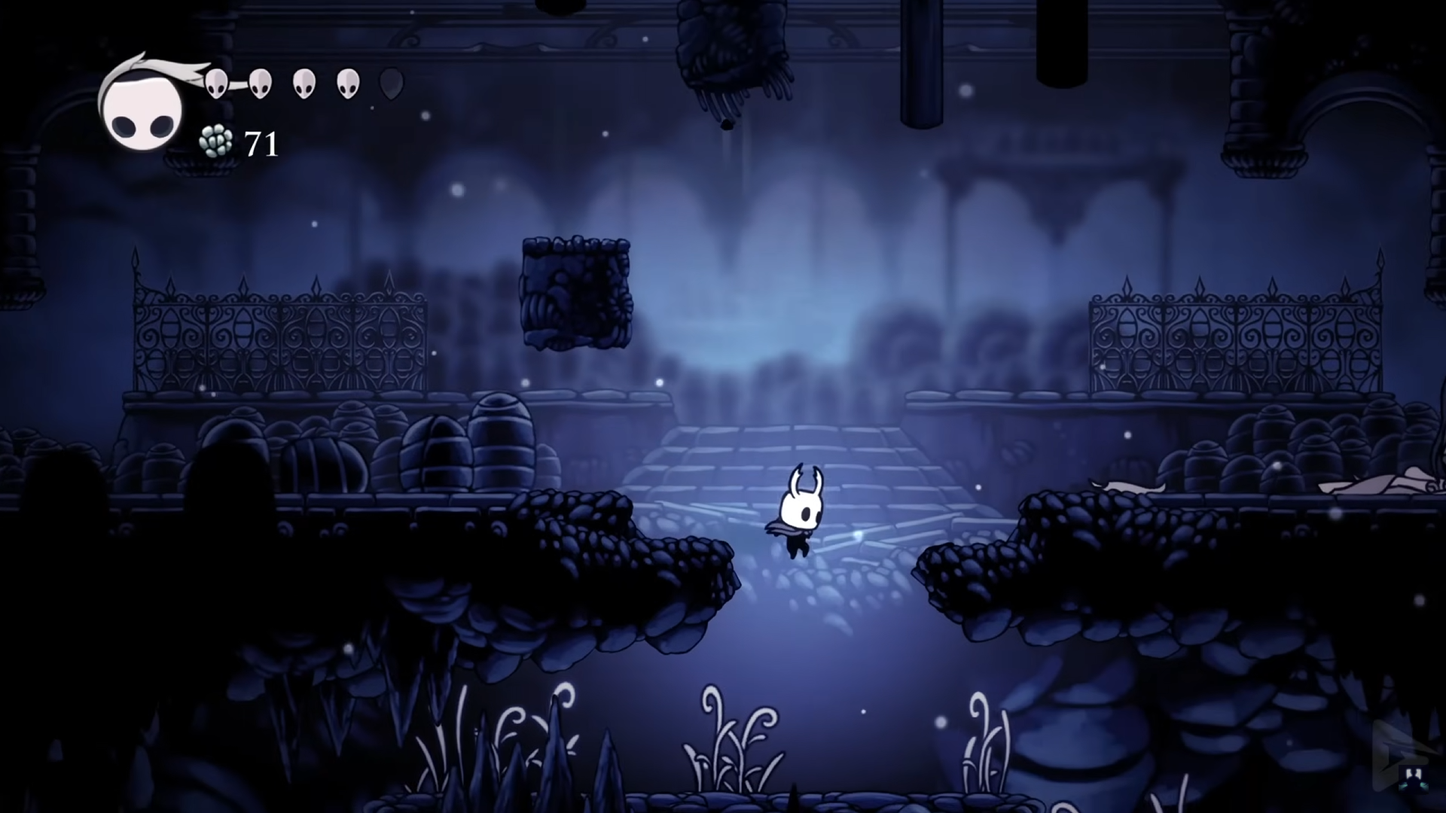HK: (767, 467, 826, 563)
